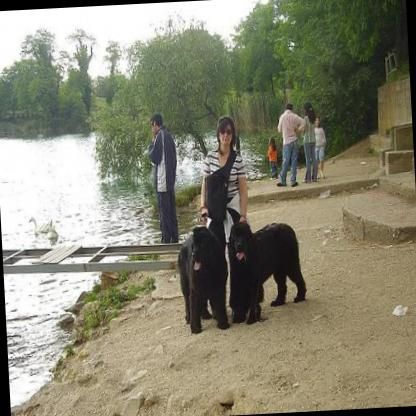Newfoundland: (224, 217, 307, 325), (172, 224, 228, 334)
